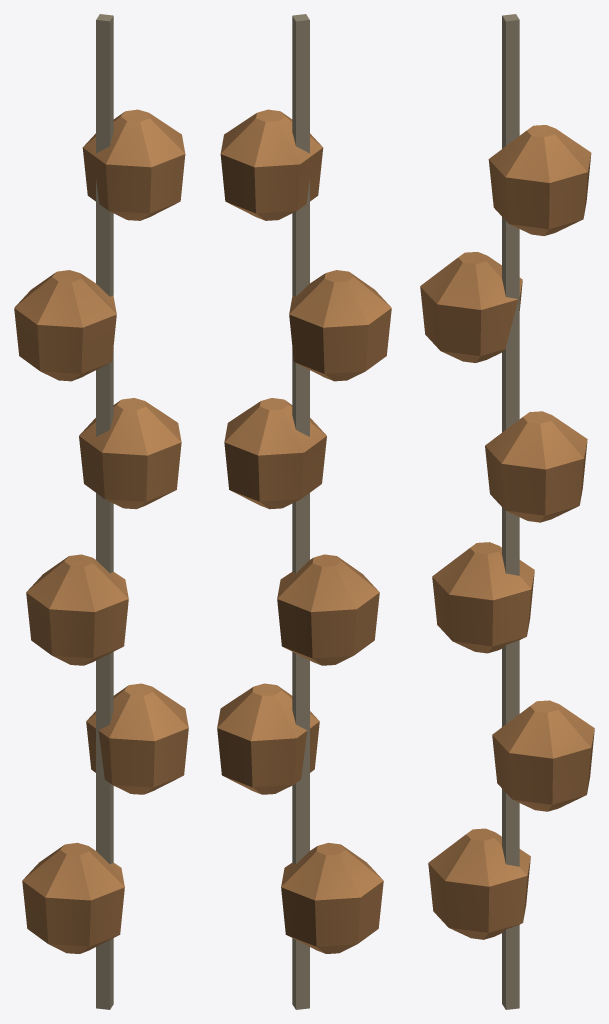
Rendered from prop_hoshigaki.glb.
The picture shows the model from 3 angles, left to right: view 1: azimuth 30°, elevation 25°; view 2: azimuth 150°, elevation 25°; view 3: azimuth 330°, elevation 25°; orthographic projection.
Parts seen in each view (by area): view 1: prop_hoshigaki; view 2: prop_hoshigaki; view 3: prop_hoshigaki.
Part boxes in pixels (x1=…): prop_hoshigaki: x1=14, y1=14, x2=188, y2=1009; prop_hoshigaki: x1=217, y1=14, x2=391, y2=1009; prop_hoshigaki: x1=420, y1=14, x2=594, y2=1009.
Size of the model in its own units: 0.1454 by 0.86 by 0.0819.
